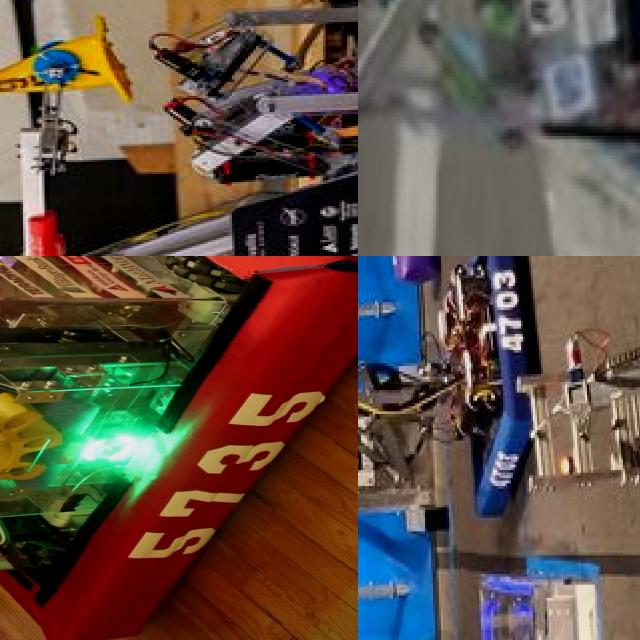FRC-Robots: (0, 256, 358, 635), (0, 0, 358, 256), (358, 0, 640, 256), (358, 256, 542, 554)
